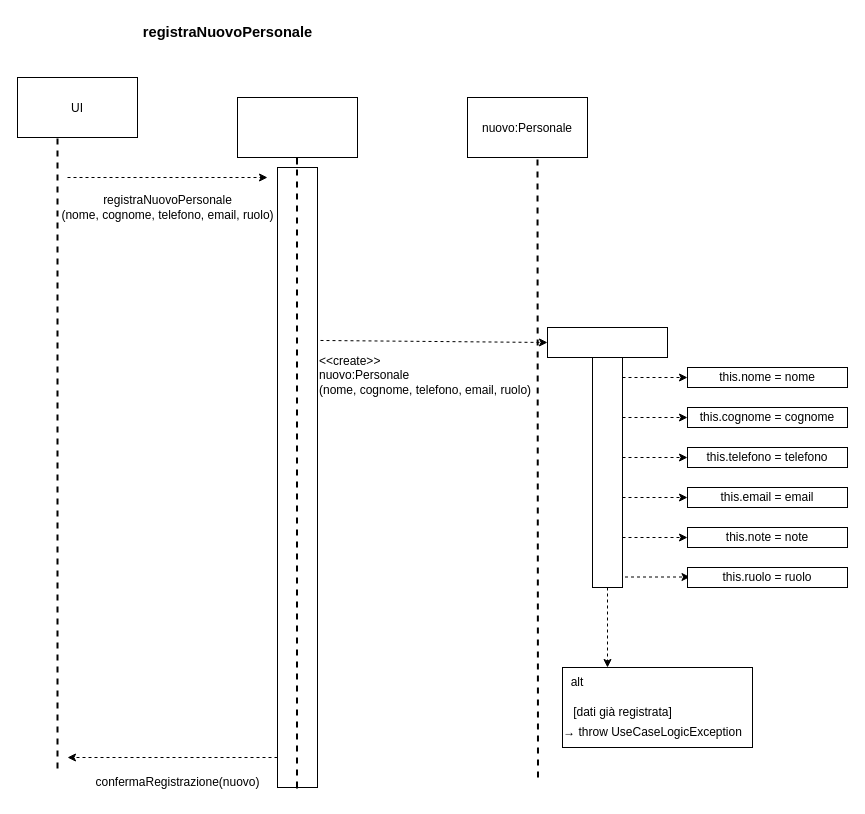
This 865x814 diagram has some shape labels left out. Each missing label, with the centre of its shape:
create: the point at 607,342
staffMgr: StaffManager: the point at 297,127
